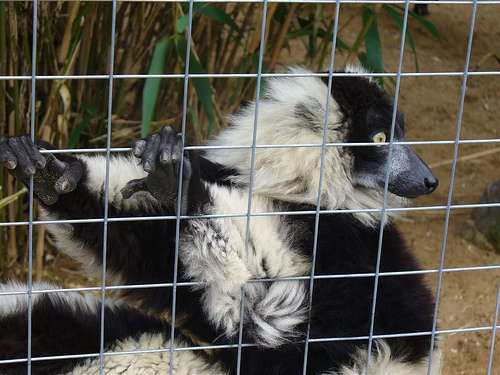cat: (0, 65, 441, 373)
